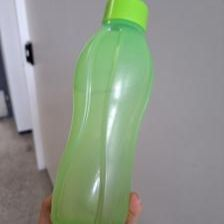bottle: (47, 0, 155, 224)
